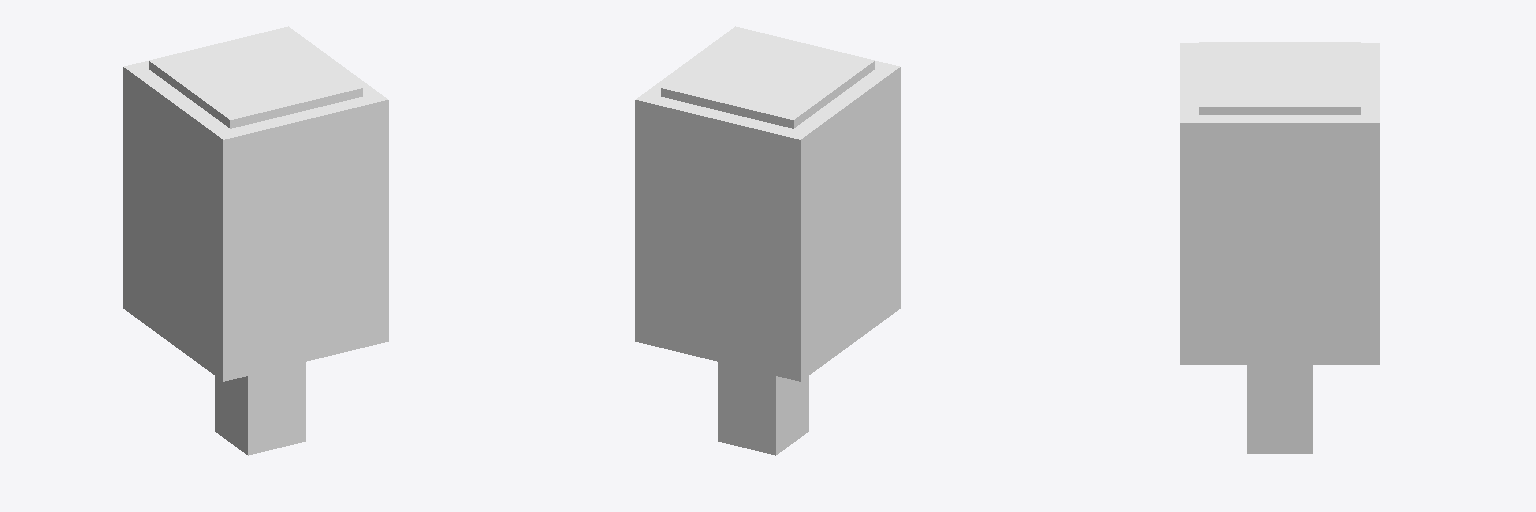
Rendered from Tree1.obj.
The picture shows the model from 3 angles: view 1: azimuth 30°, elevation 25°; view 2: azimuth 150°, elevation 25°; view 3: azimuth 270°, elevation 25°; orthographic projection.
Size of the model in its own units: 20 by 42 by 21.